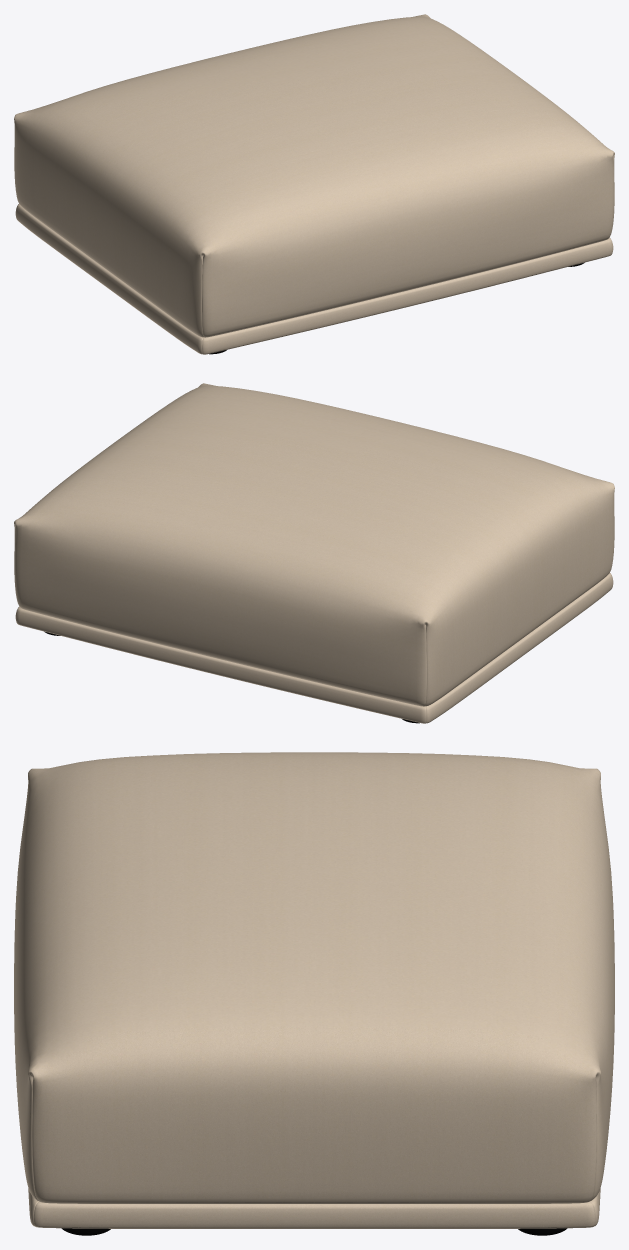
The model's file is DIVINA 106.glb.
3 views of the same model, one above another, from view 1: azimuth 30°, elevation 25°; view 2: azimuth 150°, elevation 25°; view 3: azimuth 270°, elevation 25° (orthographic). The views are drawn at different scales.
Visible parts, largest first — view 1: Upholstery; view 2: Upholstery; view 3: Upholstery.
Boxes of the visible parts, <box> form: Upholstery: <box>14,14,614,354</box>; Upholstery: <box>14,383,614,723</box>; Upholstery: <box>14,752,614,1228</box>.
Bounding box in the file's own units: 1.19 × 0.4138 × 0.9797.
Materials: 2 (2 with a texture image).
